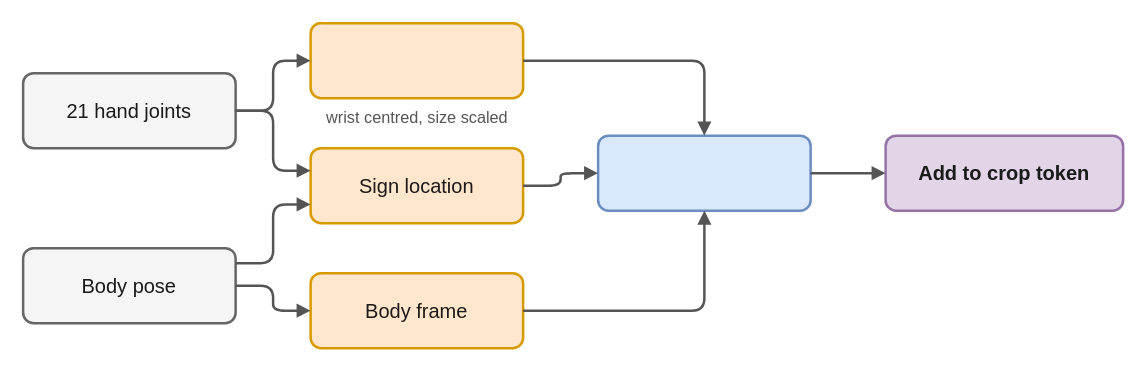
Image size: 1145x370. Some labels were removed from this diagram. Here are the shapes that lost their labels. From the top down, the centre of each, then its label:
(x=416, y=60): Handshape
(x=703, y=172): Small network
